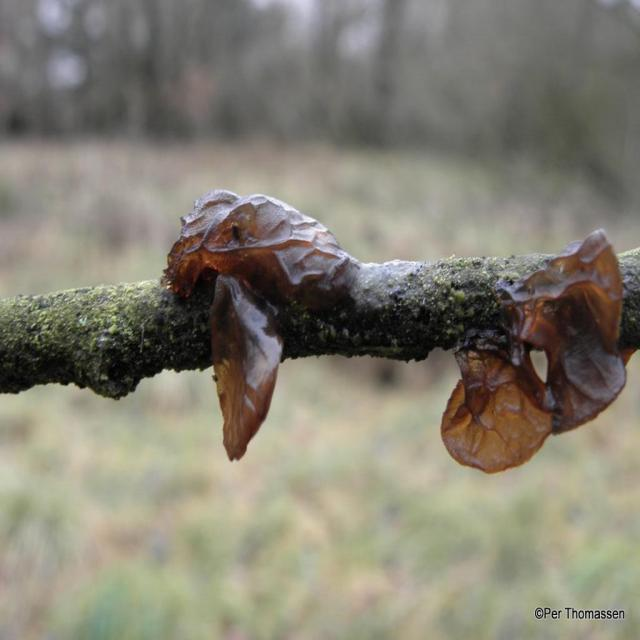Auricularia auricula: (440, 235, 628, 475), (168, 192, 350, 285), (206, 268, 281, 463)
